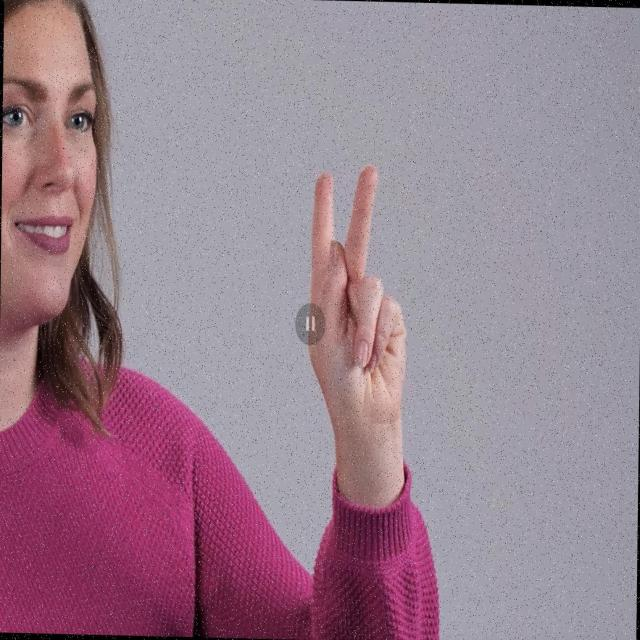K: (303, 158, 412, 435)
